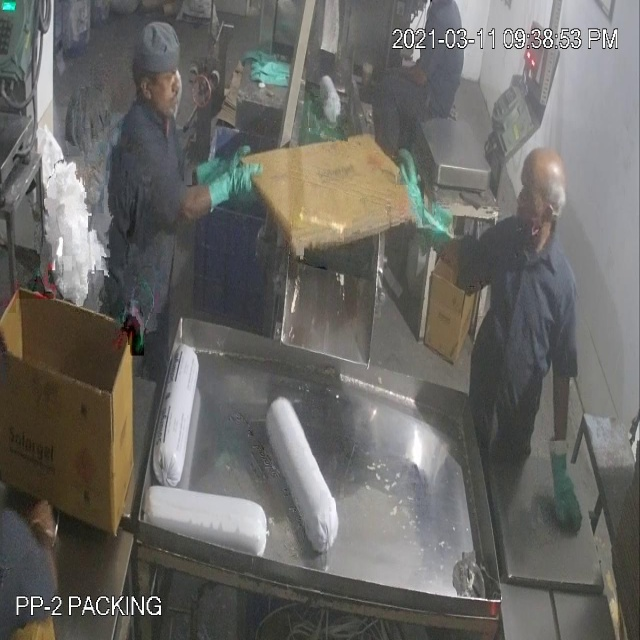Guantes: (545, 422, 589, 554)
